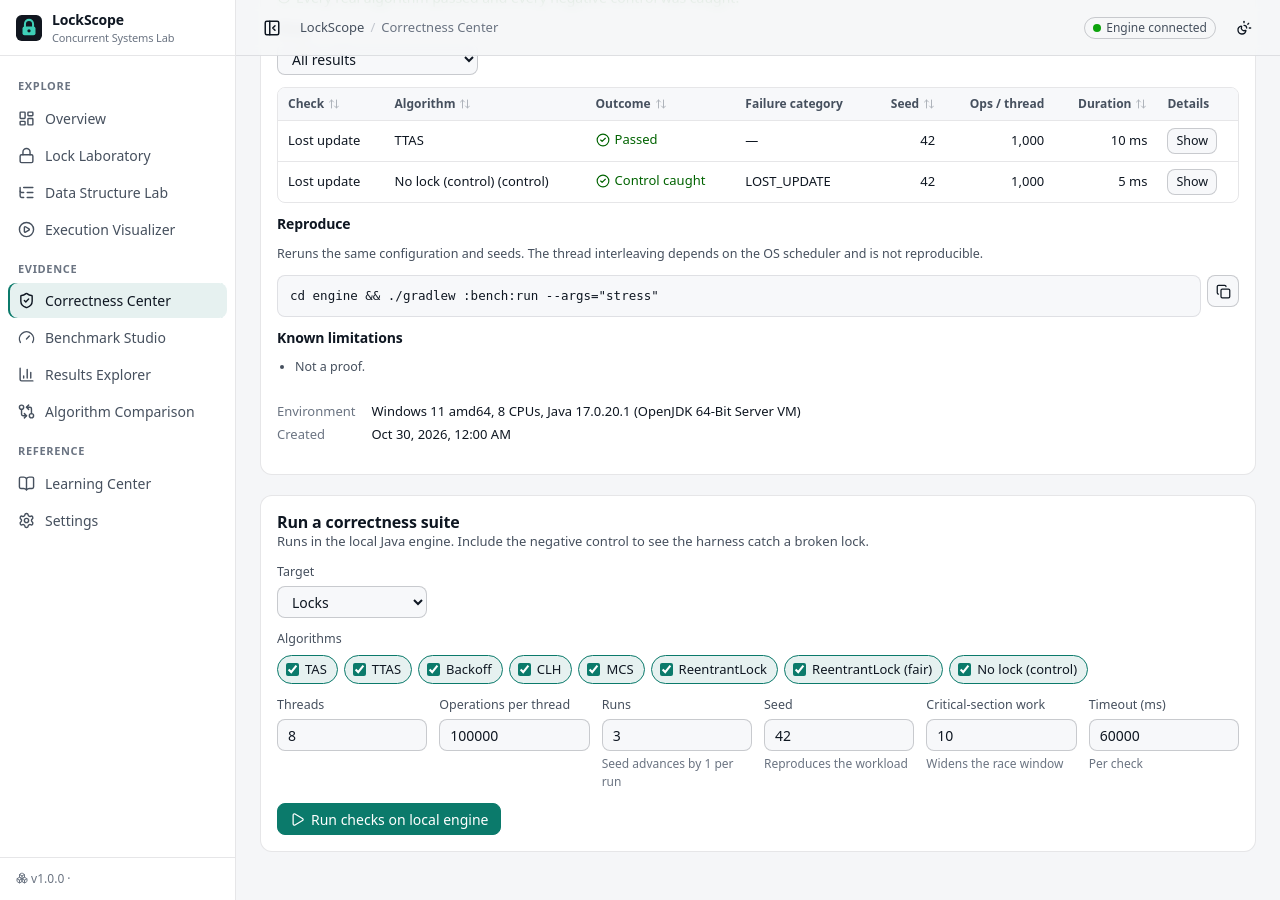
Test: engine states › surfaces engine validation errors
(page scrolled)
Click the button "Run checks on local engine".
click(389, 819)  # box [277, 803, 502, 835]
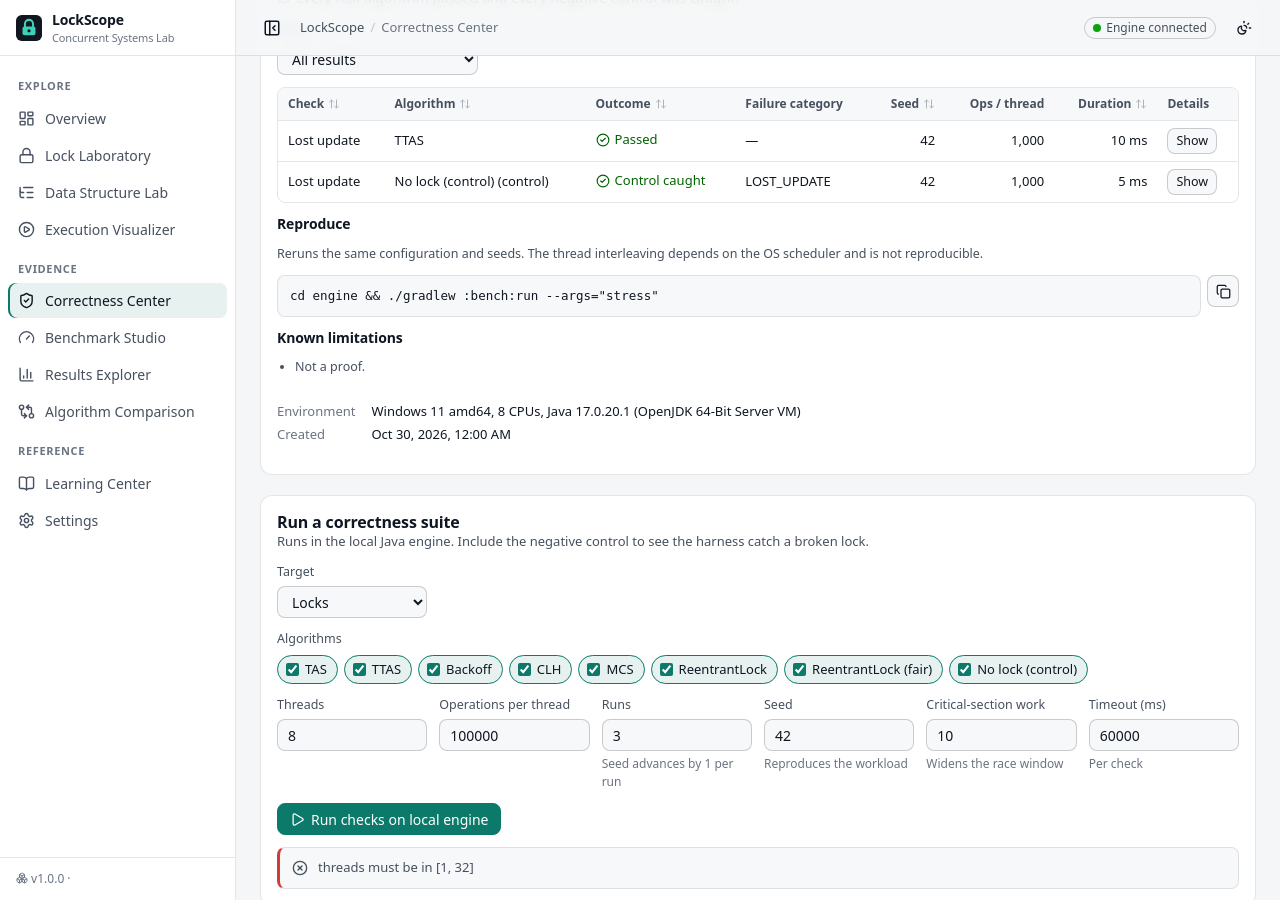
Result: the text "threads must be in [1, 32]" is shown at [318, 858, 474, 878]
